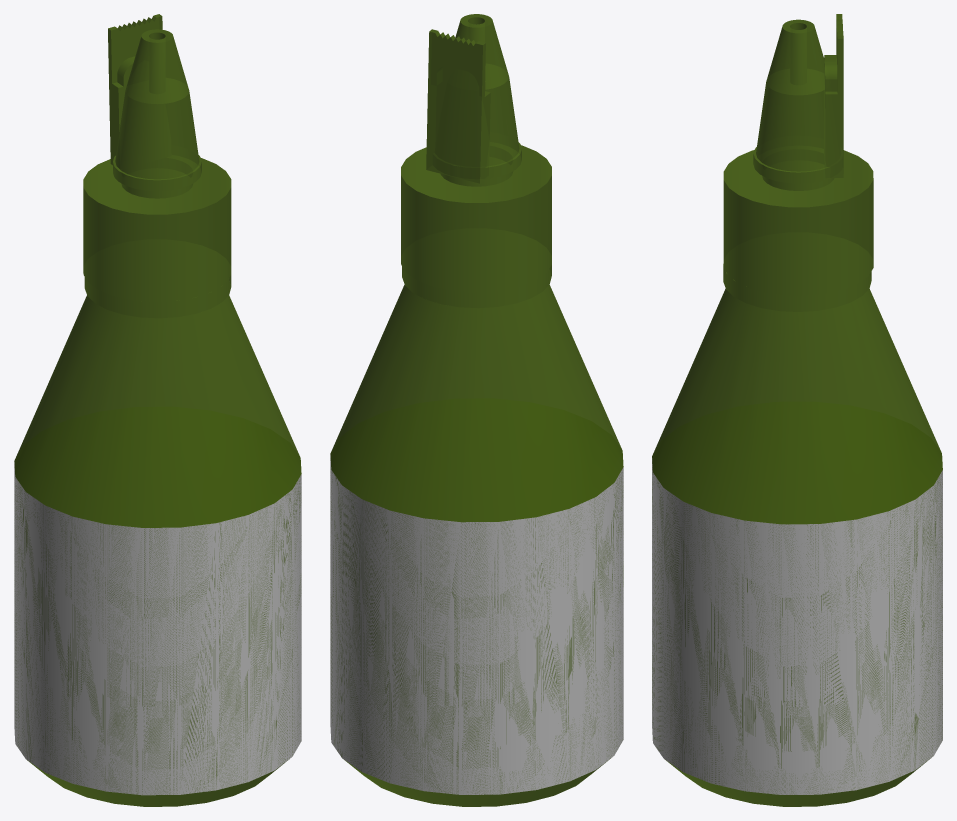
3 renders of one model, left to right at view 1: azimuth 30°, elevation 25°; view 2: azimuth 150°, elevation 25°; view 3: azimuth 270°, elevation 25°, orthographic. The views are drawn at different scales.
Parts seen in each view (by area): view 1: mesh1_mesh1-geometry, mesh5_mesh5-geometry, mesh15_mesh15-geometry, mesh9_mesh9-geometry, mesh7_mesh7-geometry, mesh11_mesh11-geometry, mesh13_mesh13-geometry, mesh19_mesh19-geometry, mesh18_mesh18-geometry, mesh17_mesh17-geometry, mesh16_mesh16-geometry; view 2: mesh1_mesh1-geometry, mesh5_mesh5-geometry, mesh15_mesh15-geometry, mesh9_mesh9-geometry, mesh13_mesh13-geometry, mesh7_mesh7-geometry, mesh11_mesh11-geometry, mesh17_mesh17-geometry, mesh19_mesh19-geometry, mesh18_mesh18-geometry, mesh16_mesh16-geometry; view 3: mesh1_mesh1-geometry, mesh5_mesh5-geometry, mesh15_mesh15-geometry, mesh9_mesh9-geometry, mesh11_mesh11-geometry, mesh17_mesh17-geometry, mesh7_mesh7-geometry, mesh19_mesh19-geometry, mesh18_mesh18-geometry, mesh13_mesh13-geometry, mesh16_mesh16-geometry.
Part boxes in pixels (x1=…): mesh1_mesh1-geometry: x1=14, y1=462, x2=301, y2=806; mesh5_mesh5-geometry: x1=14, y1=286, x2=301, y2=527; mesh15_mesh15-geometry: x1=15, y1=407, x2=300, y2=527; mesh9_mesh9-geometry: x1=83, y1=158, x2=231, y2=301; mesh7_mesh7-geometry: x1=84, y1=240, x2=231, y2=318; mesh11_mesh11-geometry: x1=115, y1=78, x2=199, y2=179; mesh13_mesh13-geometry: x1=108, y1=14, x2=170, y2=168; mesh19_mesh19-geometry: x1=125, y1=29, x2=189, y2=104; mesh18_mesh18-geometry: x1=113, y1=145, x2=201, y2=198; mesh17_mesh17-geometry: x1=84, y1=240, x2=230, y2=300; mesh16_mesh16-geometry: x1=85, y1=280, x2=230, y2=317; mesh1_mesh1-geometry: x1=330, y1=417, x2=623, y2=806; mesh5_mesh5-geometry: x1=330, y1=275, x2=623, y2=522; mesh15_mesh15-geometry: x1=331, y1=399, x2=622, y2=521; mesh9_mesh9-geometry: x1=401, y1=145, x2=551, y2=292; mesh13_mesh13-geometry: x1=426, y1=29, x2=490, y2=183; mesh7_mesh7-geometry: x1=402, y1=229, x2=551, y2=308; mesh11_mesh11-geometry: x1=435, y1=65, x2=519, y2=166; mesh17_mesh17-geometry: x1=401, y1=229, x2=551, y2=291; mesh19_mesh19-geometry: x1=448, y1=14, x2=508, y2=89; mesh18_mesh18-geometry: x1=433, y1=132, x2=521, y2=186; mesh16_mesh16-geometry: x1=403, y1=270, x2=550, y2=307; mesh1_mesh1-geometry: x1=652, y1=458, x2=942, y2=806; mesh5_mesh5-geometry: x1=652, y1=281, x2=942, y2=524; mesh15_mesh15-geometry: x1=652, y1=402, x2=942, y2=523; mesh9_mesh9-geometry: x1=723, y1=150, x2=873, y2=295; mesh11_mesh11-geometry: x1=756, y1=69, x2=840, y2=171; mesh17_mesh17-geometry: x1=724, y1=233, x2=872, y2=294; mesh7_mesh7-geometry: x1=723, y1=238, x2=871, y2=311; mesh19_mesh19-geometry: x1=766, y1=19, x2=830, y2=95; mesh18_mesh18-geometry: x1=753, y1=136, x2=842, y2=190; mesh13_mesh13-geometry: x1=824, y1=14, x2=843, y2=177; mesh16_mesh16-geometry: x1=724, y1=273, x2=870, y2=311.
Size of the model in its own units: 0.3219 by 0.8904 by 0.3219.
